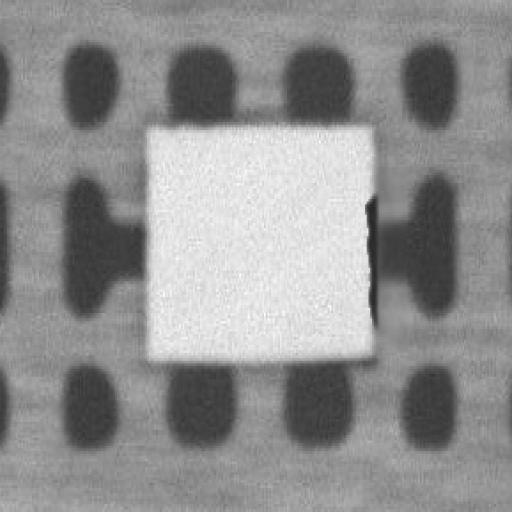DIE_BROKEN: (358, 188, 377, 324)
